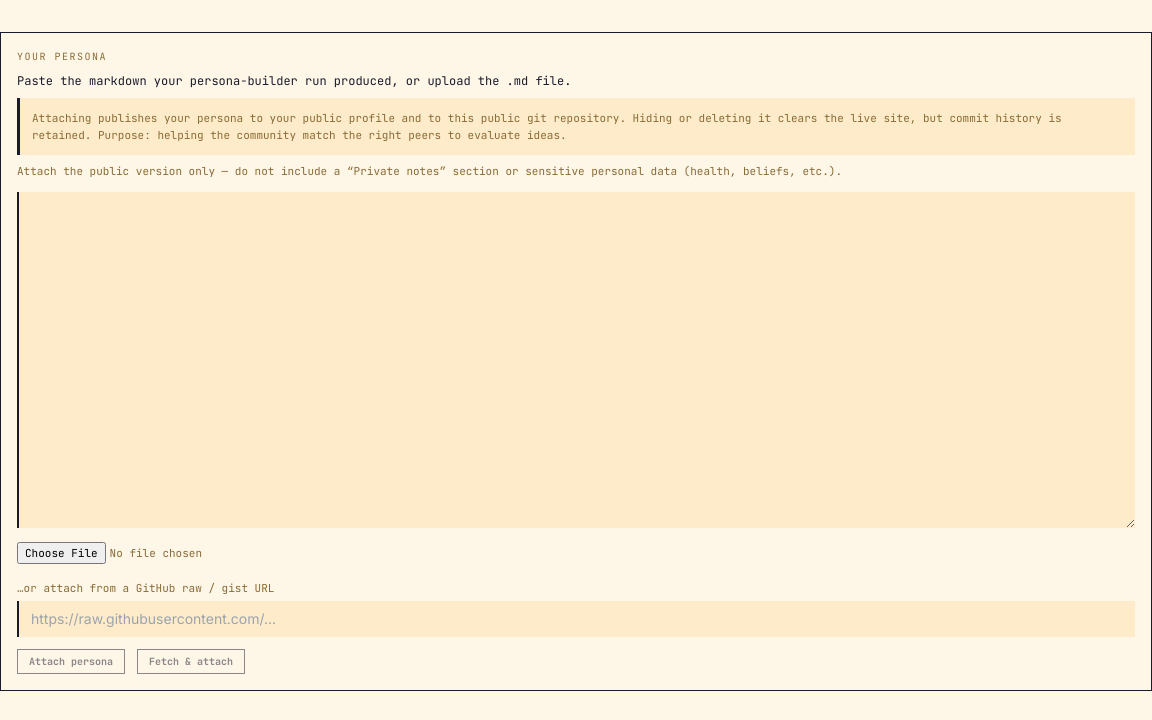
Test: PersonaEditor — URL attach (v0.12) › renders the per-kind message for fetch_failed
The width and height of the screenshot is (1152, 720).
In the field labelled "…or attach from a GitHub raw / gist URL": x=576, y=618 left=17, top=600, right=1135, bottom=636, type "https://raw.githubusercontent.com/x/y/main/z.md"
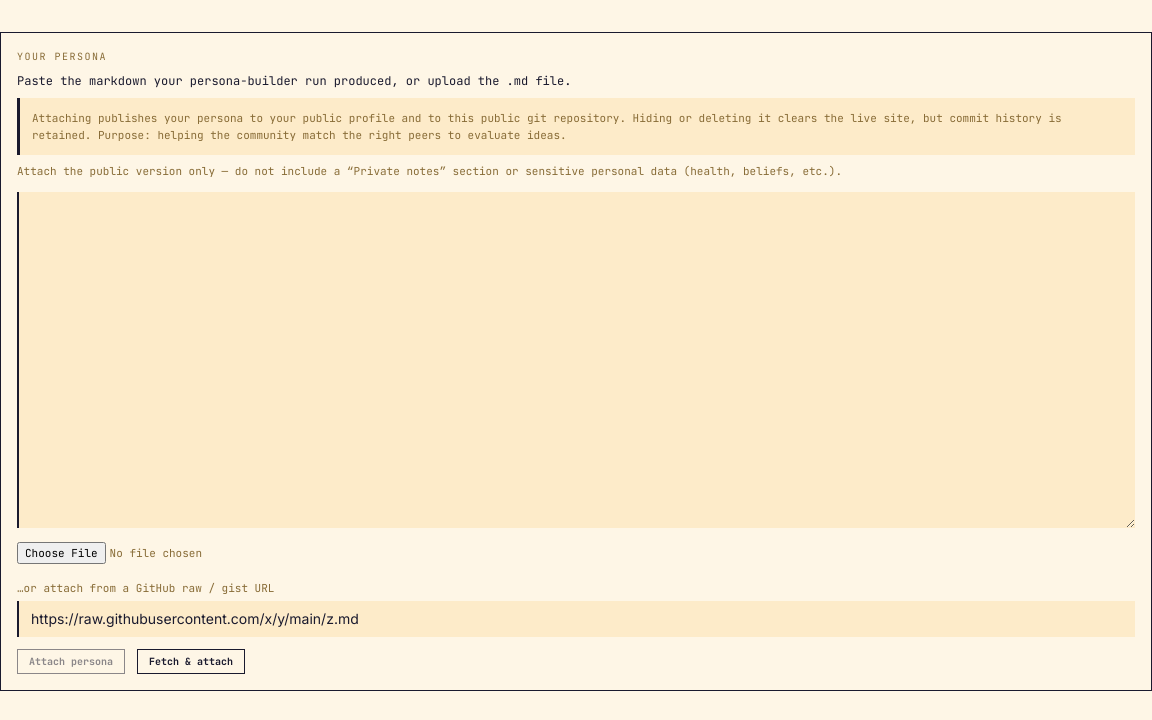
Click the button "Fetch & attach": x=191, y=661 left=137, top=648, right=245, bottom=674
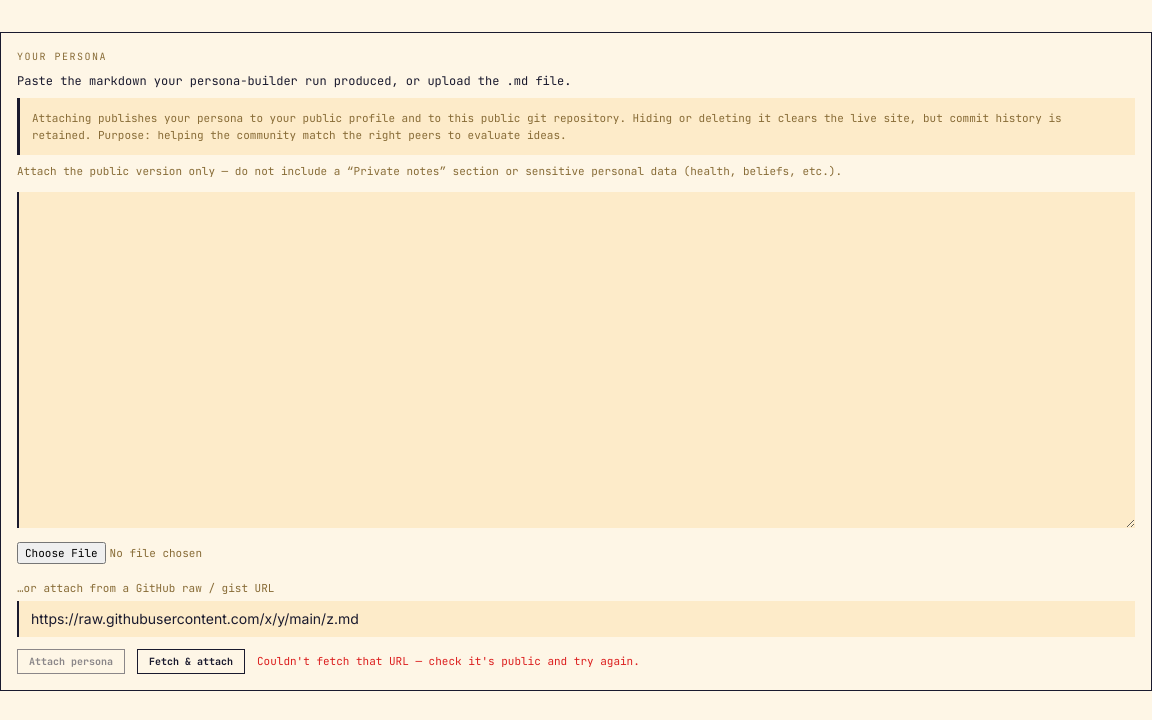
Result: the text "Couldn't fetch that URL — check it's public and try again." is shown at left=257, top=653, right=640, bottom=669
